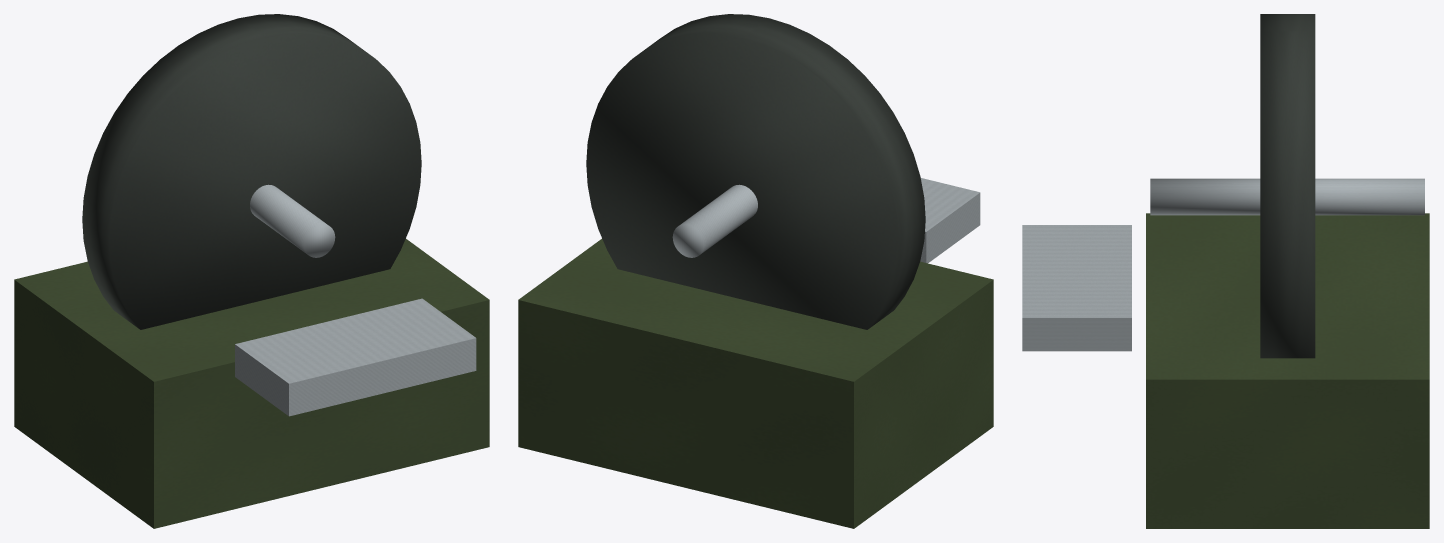
The model's file is polisher.glb.
The picture shows the model from 3 angles, left to right: view 1: azimuth 30°, elevation 25°; view 2: azimuth 150°, elevation 25°; view 3: azimuth 270°, elevation 25°; orthographic projection.
Parts seen in each view (by area): view 1: polishing wheel, polisher base, rest, axle; view 2: polisher base, polishing wheel, rest, axle; view 3: polisher base, polishing wheel, rest, axle.
Part boxes in pixels (x1=…): polishing wheel: x1=82, y1=14, x2=421, y2=329; polisher base: x1=14, y1=238, x2=489, y2=528; rest: x1=235, y1=298, x2=476, y2=416; axle: x1=250, y1=184, x2=335, y2=257; polisher base: x1=518, y1=238, x2=993, y2=528; polishing wheel: x1=586, y1=14, x2=925, y2=329; rest: x1=920, y1=178, x2=980, y2=263; axle: x1=672, y1=184, x2=757, y2=257; polisher base: x1=1146, y1=213, x2=1429, y2=528; polishing wheel: x1=1260, y1=14, x2=1315, y2=358; rest: x1=1022, y1=225, x2=1131, y2=351; axle: x1=1150, y1=178, x2=1424, y2=215.
Size of the model in its own units: 0.43 by 0.5 by 0.445.
3 materials, 3 textured.
